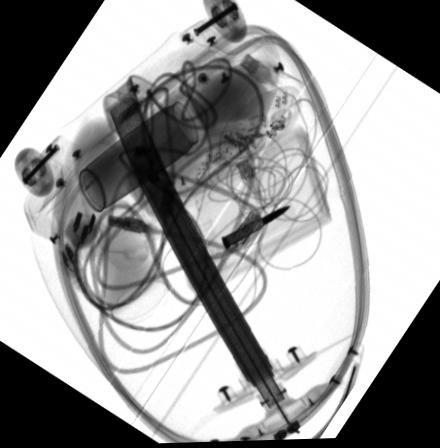Bullet: (219, 204, 292, 251)
